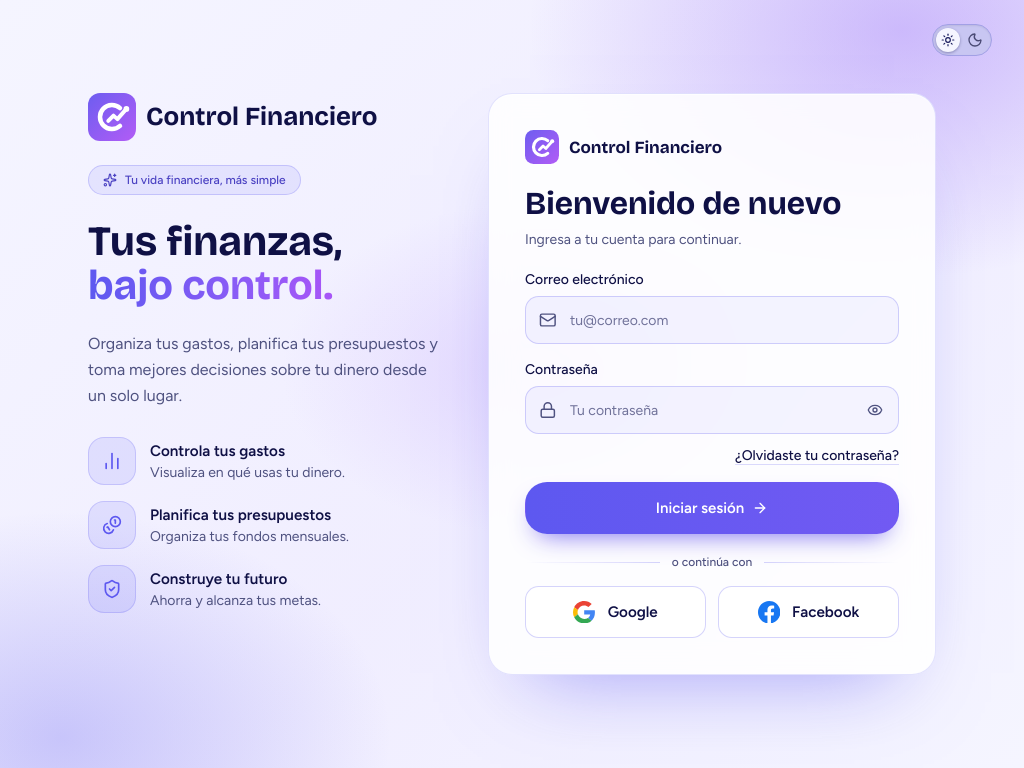
Test: LoginPage › muestra el error y la guía local si las credenciales no sirven
Type "a@b.co" into the field labelled "Correo electrónico".
click(712, 320); type("a@b.co")  # box x1=525 y1=296 x2=899 y2=344
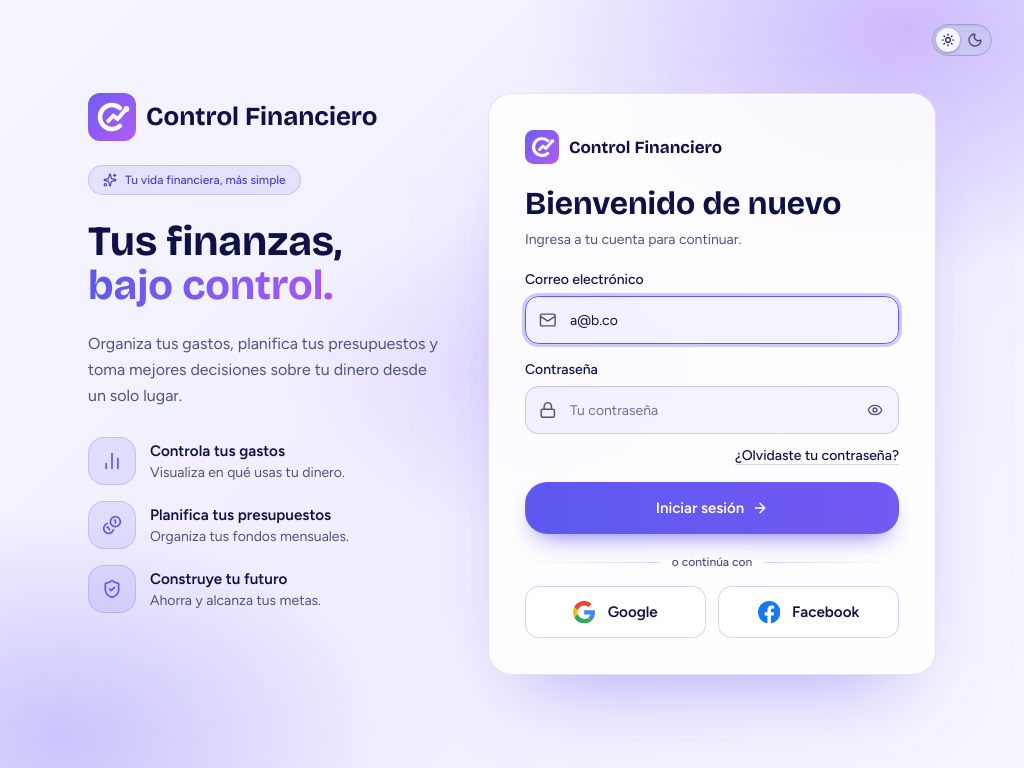
Type "mala" into the password field labelled "Contraseña".
click(712, 410); type("mala")  # box x1=525 y1=386 x2=899 y2=434
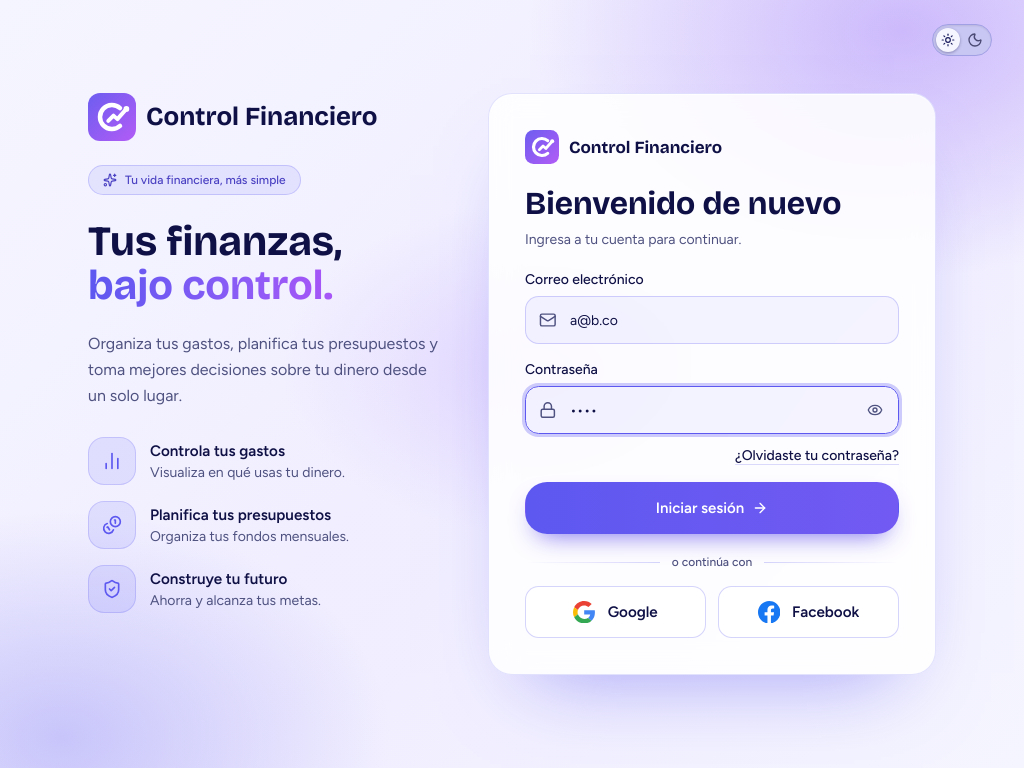
Click the button "Iniciar sesión".
click(712, 508)  # box x1=525 y1=482 x2=899 y2=534
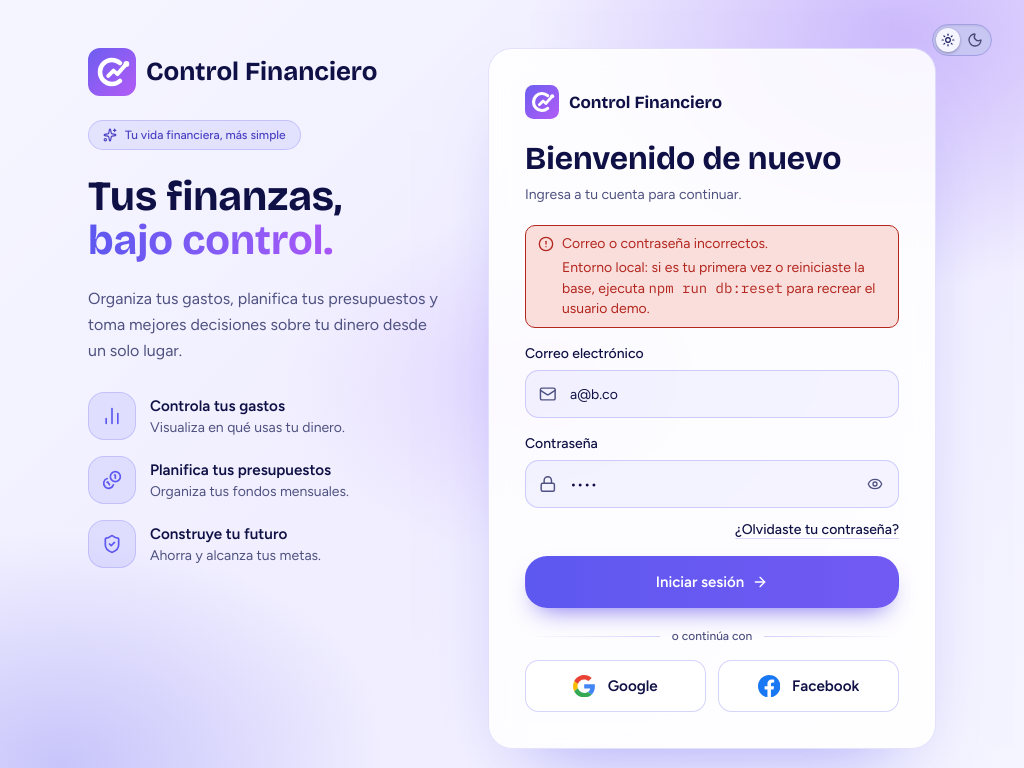
Check: the message shows "Correo o contraseña incorrectos.", box x1=562 y1=235 x2=768 y2=252
Check: the message shows "npm run db:reset", box x1=648 y1=279 x2=783 y2=297
